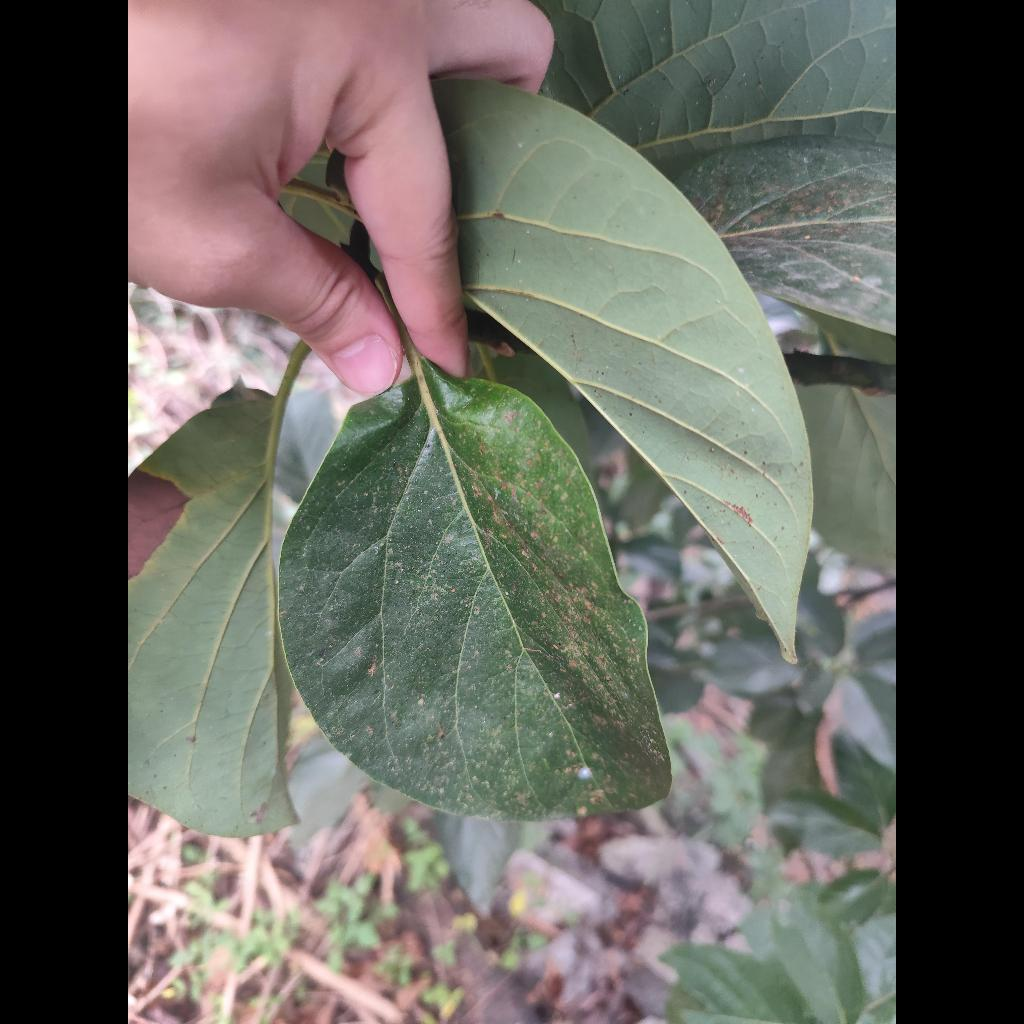Anthracnose: (280, 362, 669, 819)
